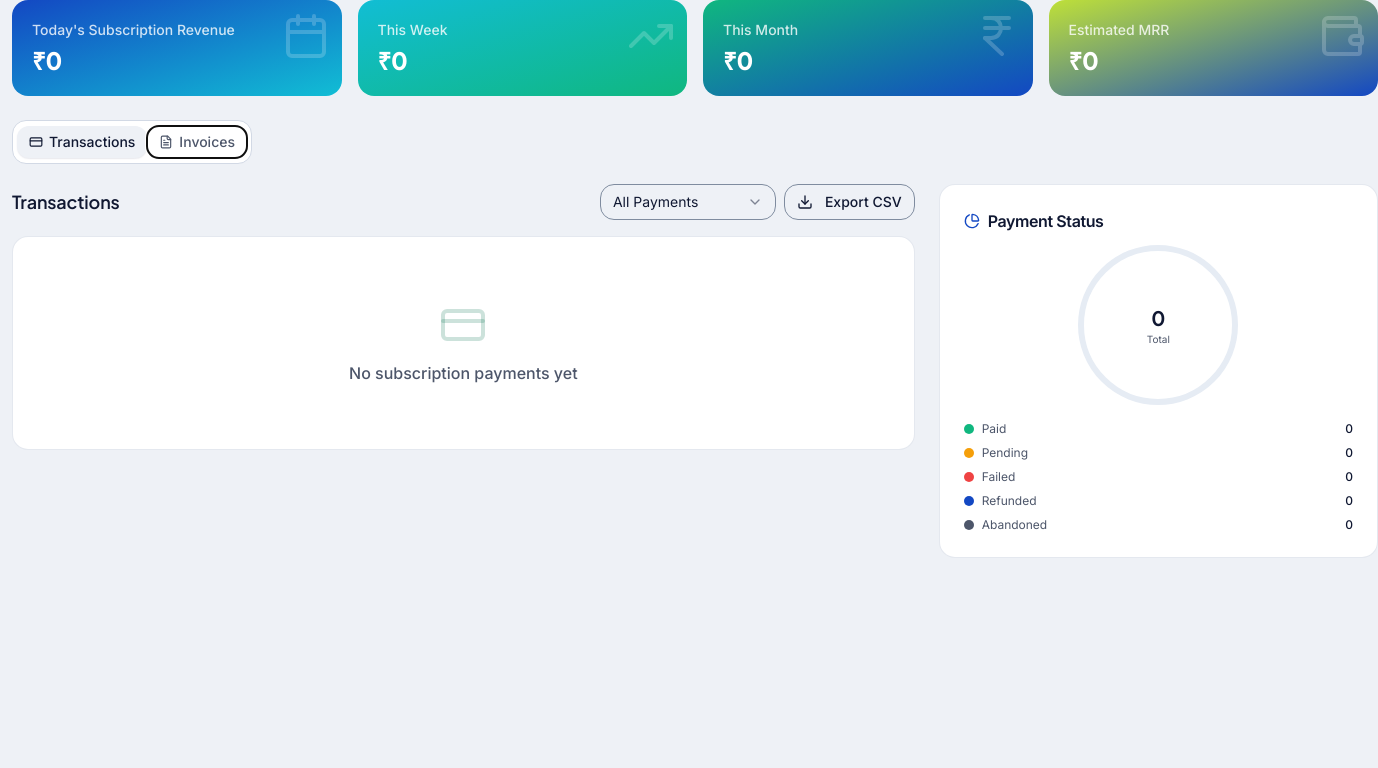
Test case: SABilling › shows an Invoices placeholder tab
The width and height of the screenshot is (1378, 768).
Check: the text "No subscription payments yet" is shown, box [349,363,578,383]
Click the tab "Invoices" at (197, 142), box [147,126,247,158]
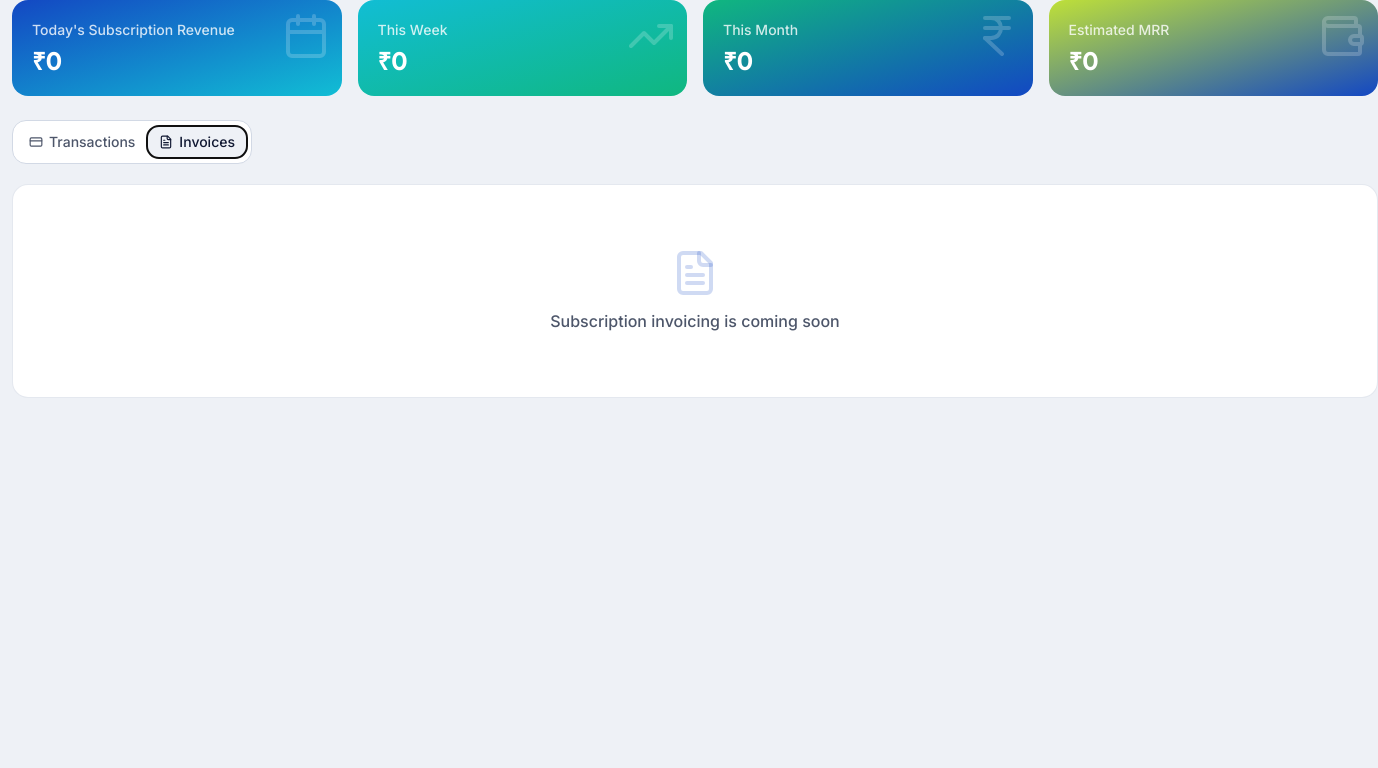
Check: the text "Subscription invoicing is coming soon" is shown, box [550,311,840,331]
